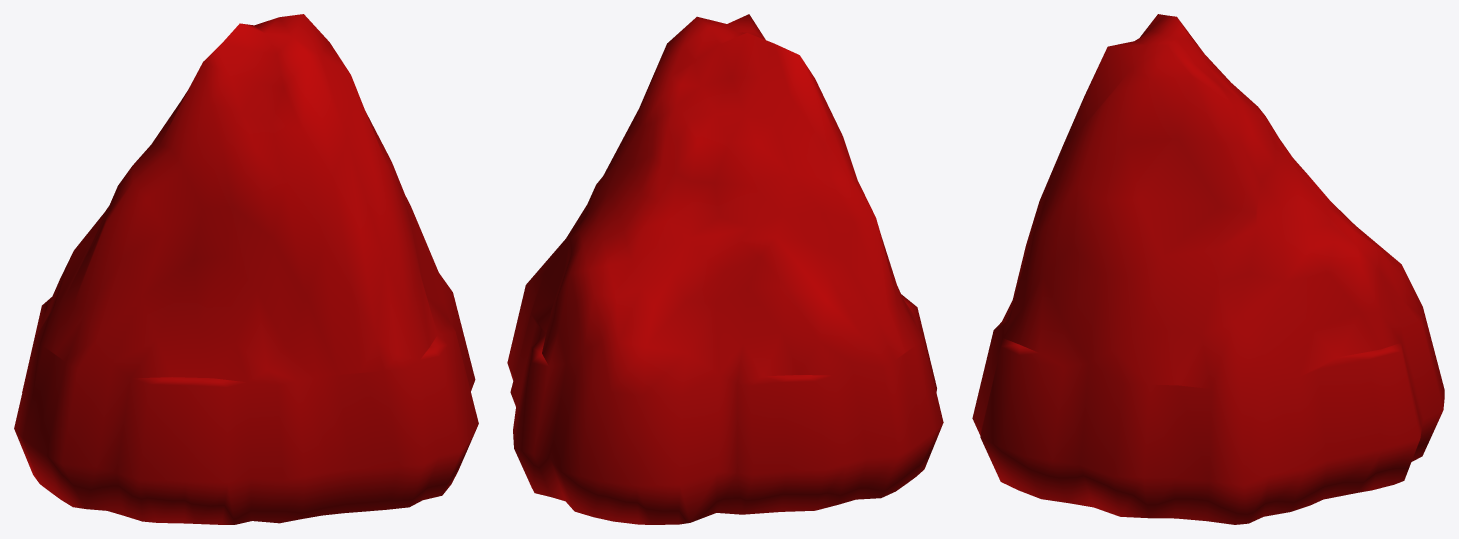
The model's file is geology-landforms-redstonemountain_v1.fbx.
3 renders of one model, left to right at view 1: azimuth 30°, elevation 25°; view 2: azimuth 150°, elevation 25°; view 3: azimuth 270°, elevation 25°, orthographic. The views are drawn at different scales.
Visible parts, largest first — view 1: RedStoneMountain_v1; view 2: RedStoneMountain_v1; view 3: RedStoneMountain_v1.
Part boxes in pixels (left/top/right/bottom): RedStoneMountain_v1: left=14, top=14, right=478, bottom=524; RedStoneMountain_v1: left=507, top=14, right=943, bottom=524; RedStoneMountain_v1: left=972, top=14, right=1444, bottom=524.
Size of the model in its own units: 27.89 by 29.81 by 28.48.
